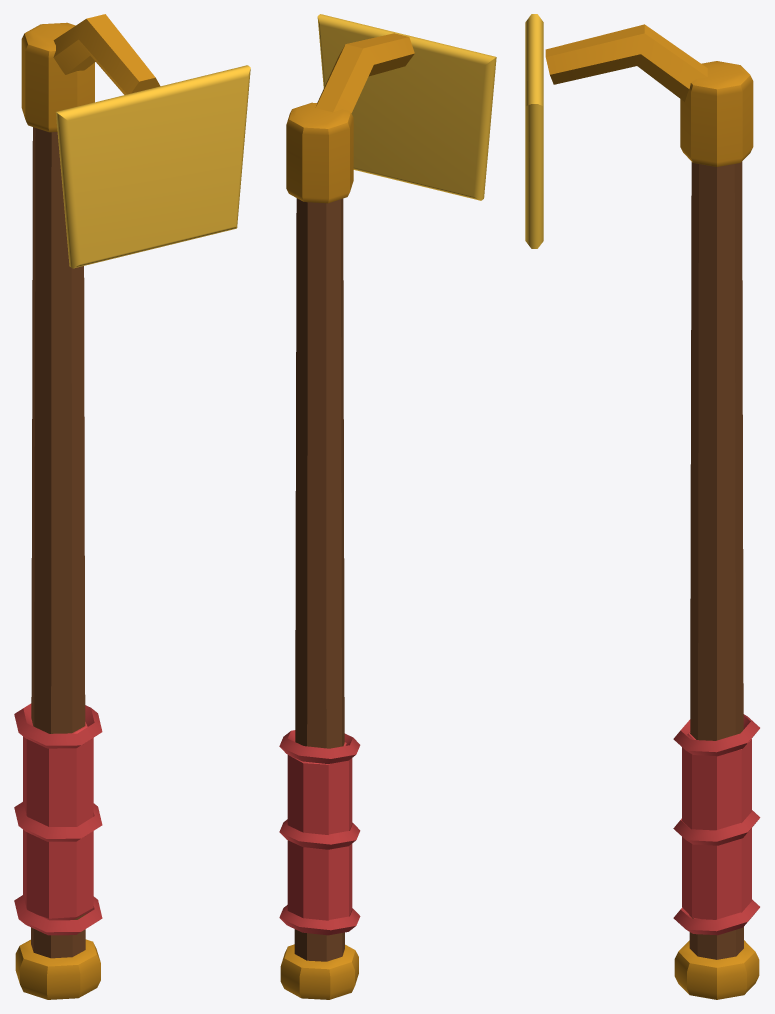
File: GoldHoe.fbx
3 views of the same model, side by side, from view 1: azimuth 30°, elevation 25°; view 2: azimuth 150°, elevation 25°; view 3: azimuth 270°, elevation 25° (orthographic). The views are drawn at different scales.
Visible parts, largest first — view 1: GoldHoe; view 2: GoldHoe; view 3: GoldHoe.
Part boxes in pixels (<box>): GoldHoe: <box>14,14,250,999</box>; GoldHoe: <box>279,14,496,999</box>; GoldHoe: <box>525,14,760,999</box>.
Size of the model in its own units: 0.7 by 3.48 by 0.7736.
Materials: 1 (1 with a texture image).
